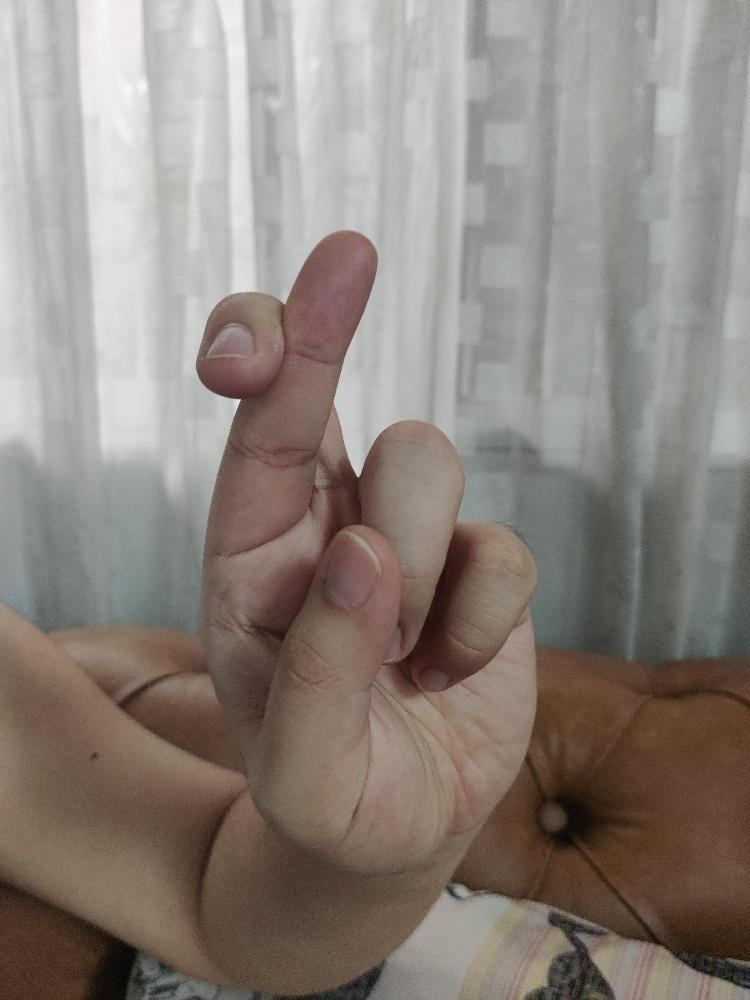r: (191, 228, 540, 864)
